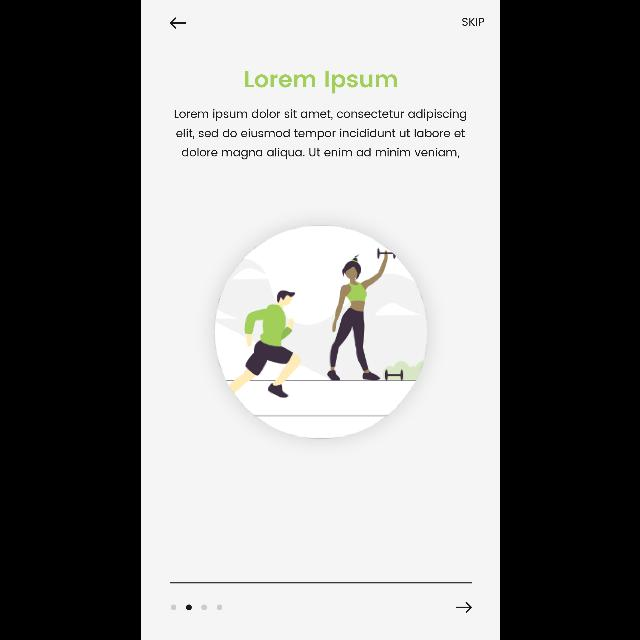icon: (169, 17, 185, 28), (456, 602, 472, 612)
image: (214, 226, 428, 438)
pageindicator: (170, 604, 222, 610)
text: (174, 109, 466, 159), (245, 71, 397, 93), (462, 18, 484, 26)
